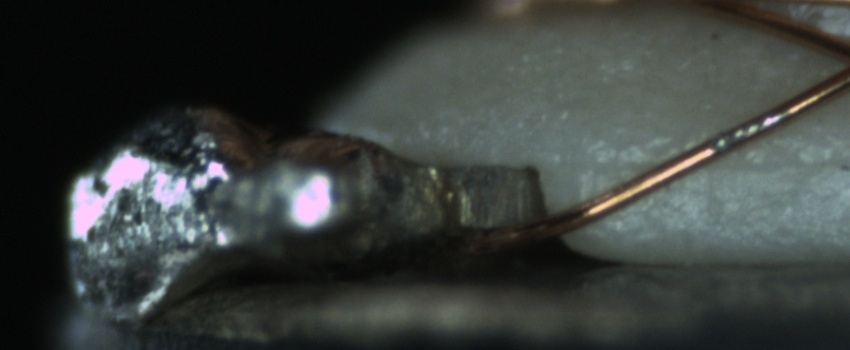CL: (826, 35, 850, 89)
DL: (580, 129, 849, 193)
